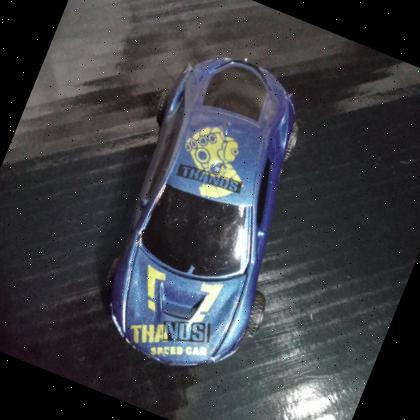Car: (60, 26, 360, 402)
